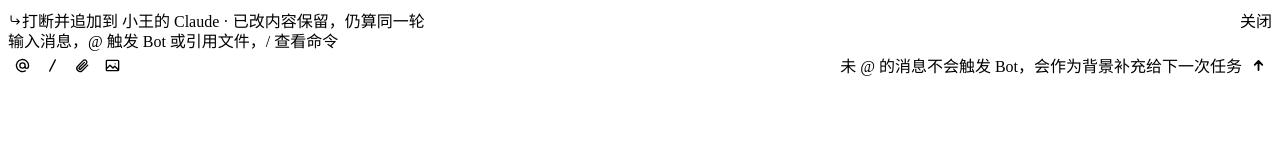
Test: interrupt and append › the composer shows the banner and sends the next message into the run
Expected: the text "打断并追加到 小王的 Claude · 已改内容保留，仍算同一轮" is shown, [22,8,425,32]
Type "直接回复 appended" into the dropdown at [640, 42], box [8,32,1272,51]
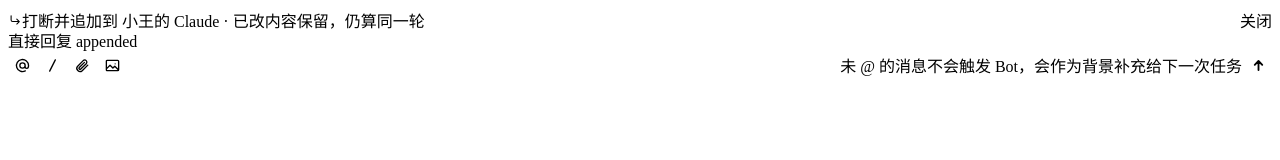
Click the button named "发送" at [1258, 65], box [1244,51,1272,79]
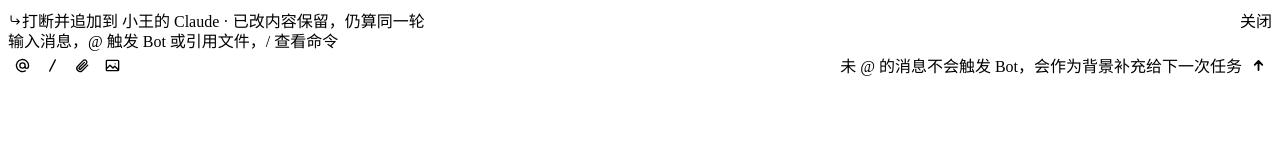
关闭 drops the target: the next message is an ordinary one.
Click the button "关闭" at [1256, 20], box [1240,8,1272,32]
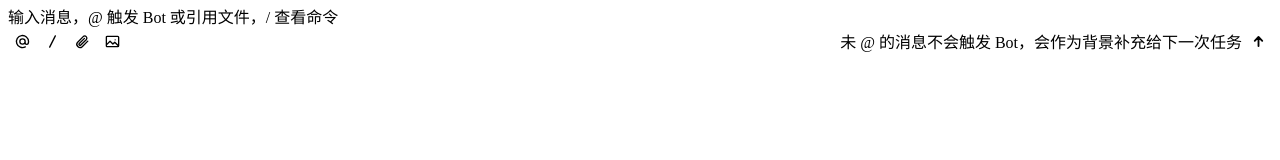
Expected: the text "打断并追加到" is gone
